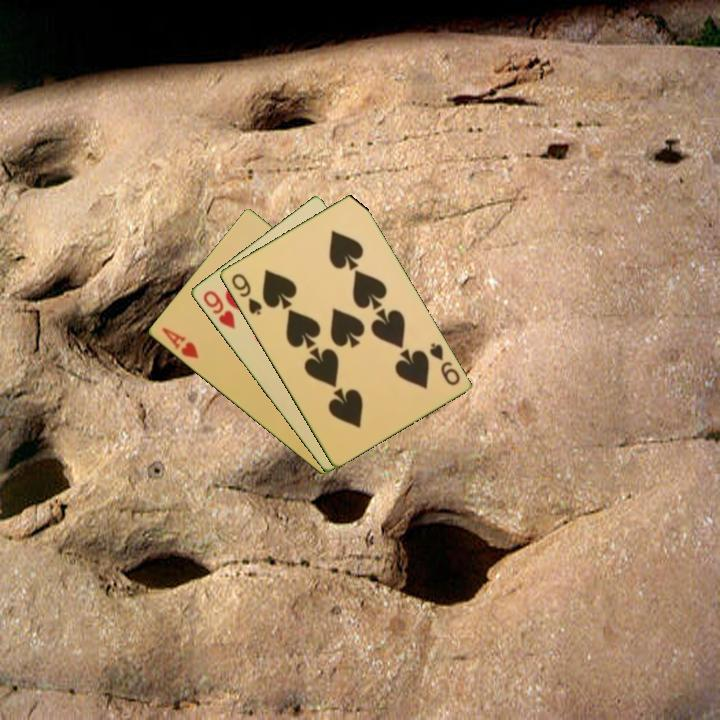9h: (199, 287, 238, 332)
9s: (425, 339, 463, 388), (227, 270, 265, 318)
Ah: (158, 324, 201, 362)
